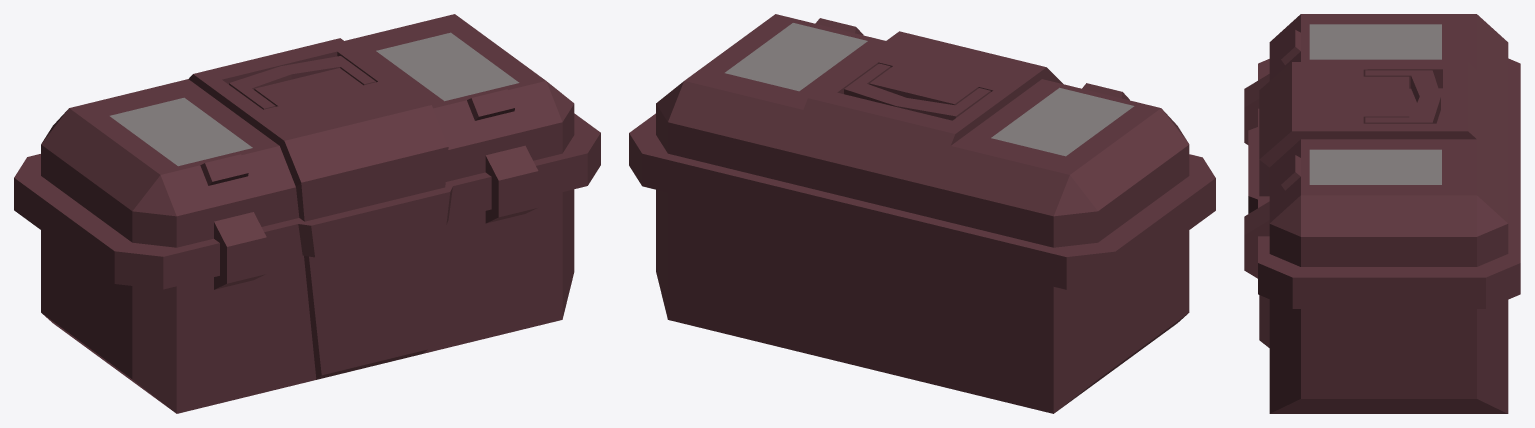
File: case-tool.fbx
The picture shows the model from 3 angles, left to right: view 1: azimuth 30°, elevation 25°; view 2: azimuth 150°, elevation 25°; view 3: azimuth 270°, elevation 25°; orthographic projection. The views are drawn at different scales.
Visible parts, largest first — view 1: case-tool; view 2: case-tool; view 3: case-tool.
Part boxes in pixels (x1,y1,x2,y2): case-tool: (14, 14, 600, 413); case-tool: (629, 14, 1215, 413); case-tool: (1244, 14, 1520, 413).
Size of the model in its own units: 0.726 by 0.336 by 0.3708.
